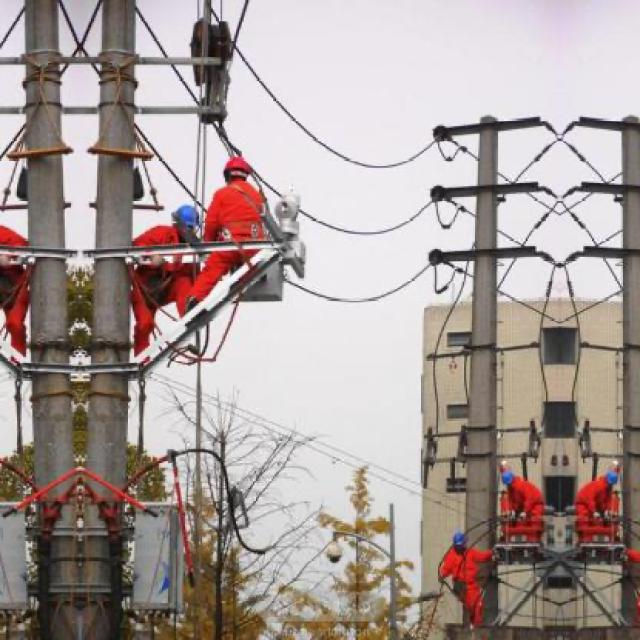con casco: (197, 136, 273, 212), (148, 197, 221, 262)
